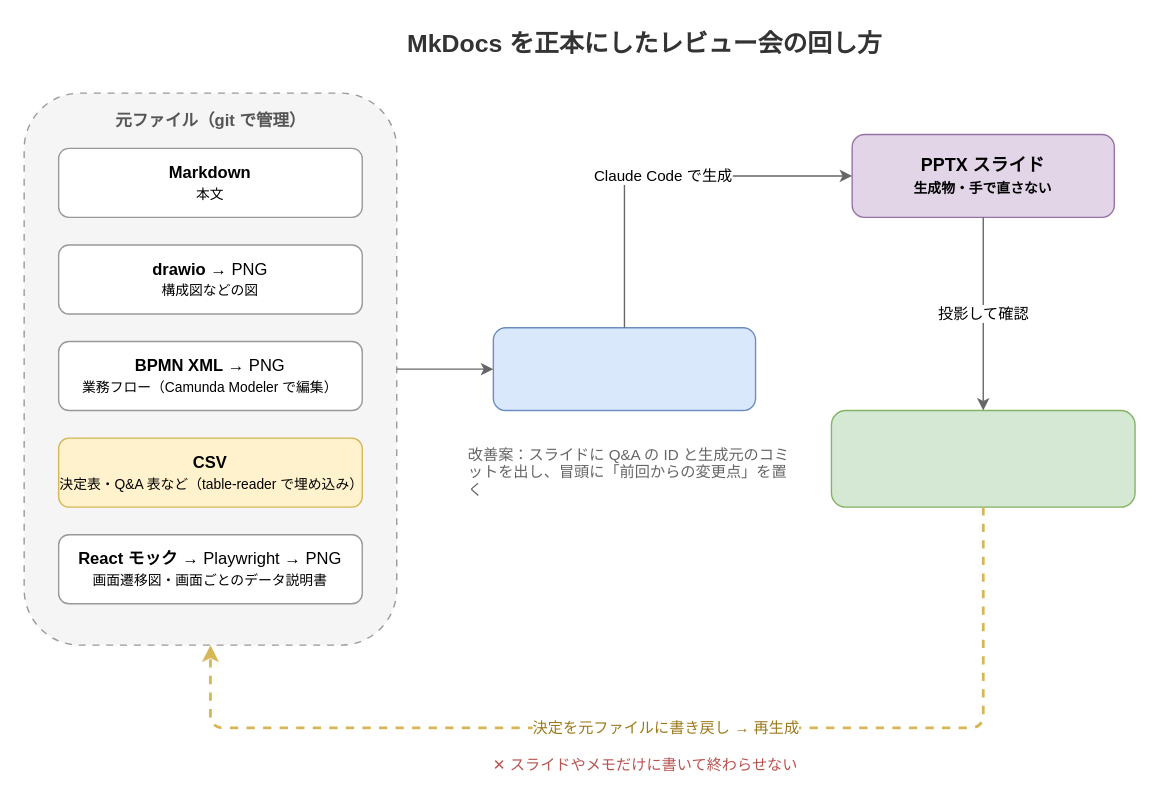
This 1159x805 diagram has some shape labels left out. Each missing label, with the box of its shape:
MkDocs 要求仕様ドキュメント（正本）: (492, 326, 756, 411)
レビュー会 利用者が確認・修正点と未決定事項を決める: (830, 409, 1135, 507)
